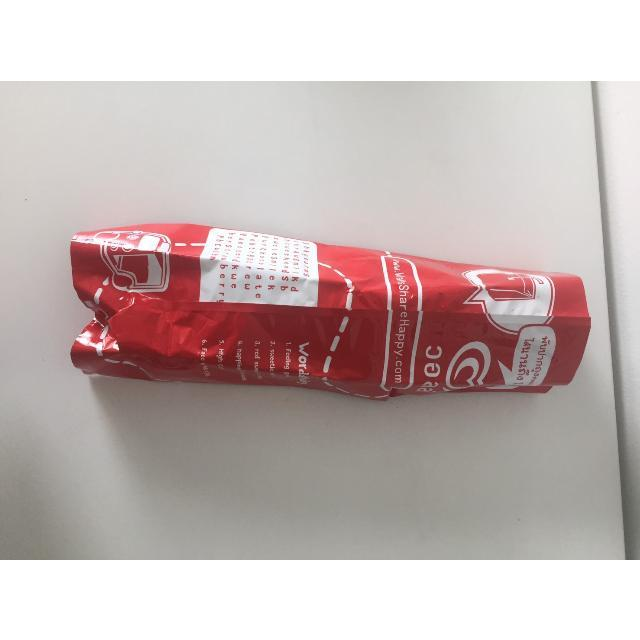Paquete de plastico: (58, 230, 587, 402)
